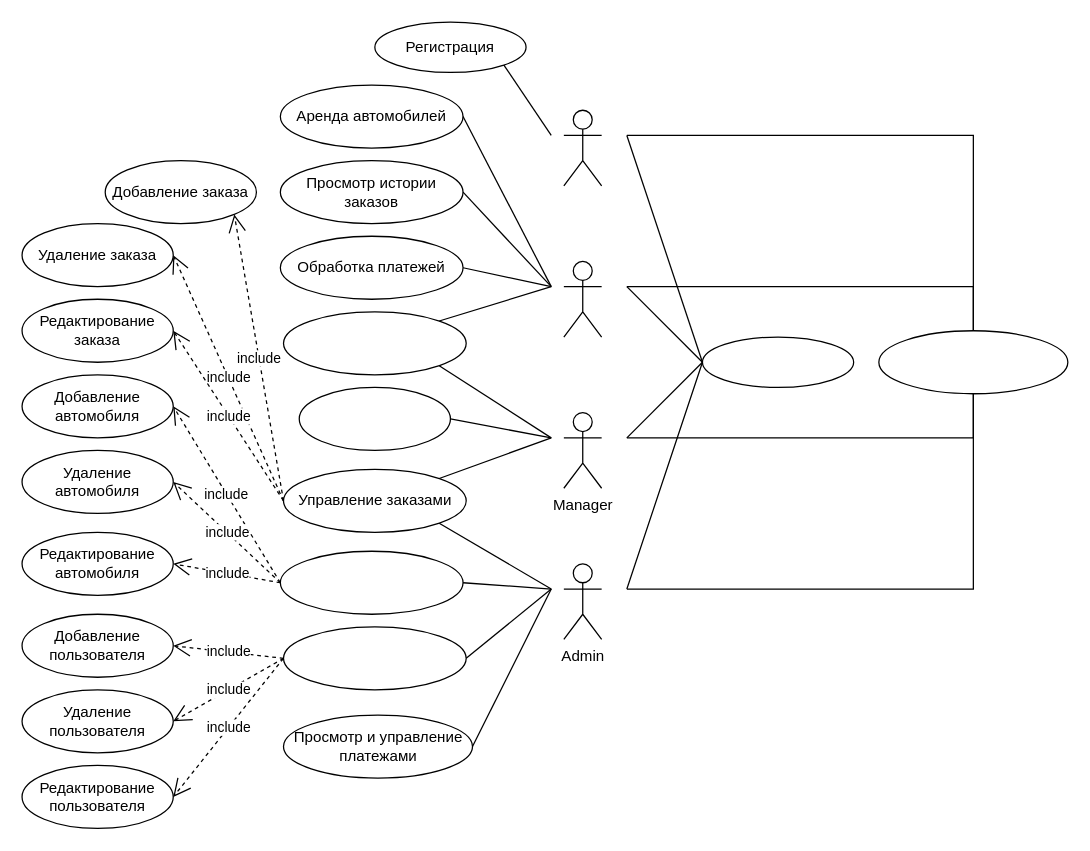
The diagram is 1090 pixels wide and 851 high, and some of its shapes have lost their labels. The shapes that lost their labels are listed below. From the top down, each one's centre as x and y in pixels, then its label:
At pixel 582 147: "Guest".
At pixel 582 298: "User".
At pixel 374 343: "Поиск автомобилей по критериям".
At pixel 777 361: "Авторизация".
At pixel 973 361: "Просмотр списка и наличия автомобилей".
At pixel 374 418: "Просмотр информации о заказах".
At pixel 371 582: "Управление автомобилями".
At pixel 374 658: "Управление пользователями".
